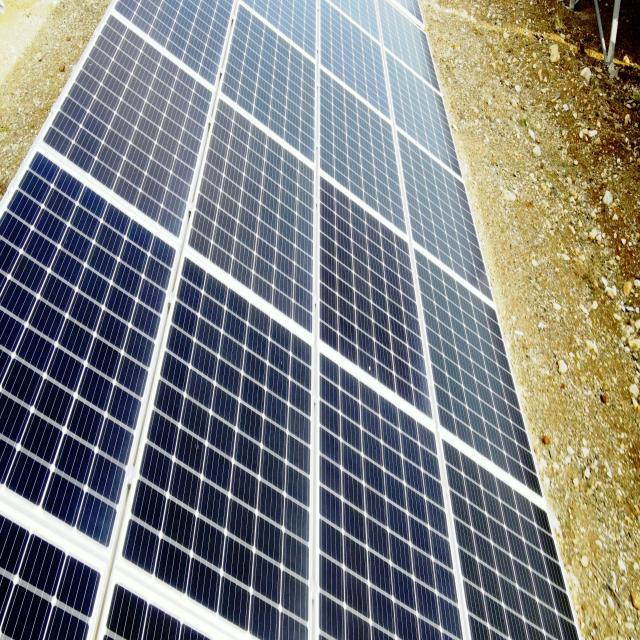no faulty: (118, 249, 316, 637), (0, 143, 178, 544), (313, 346, 465, 634), (42, 10, 208, 248), (188, 92, 330, 336), (318, 168, 444, 431), (416, 242, 544, 496), (444, 440, 580, 640), (220, 1, 322, 168), (314, 63, 410, 233), (403, 128, 499, 292)
